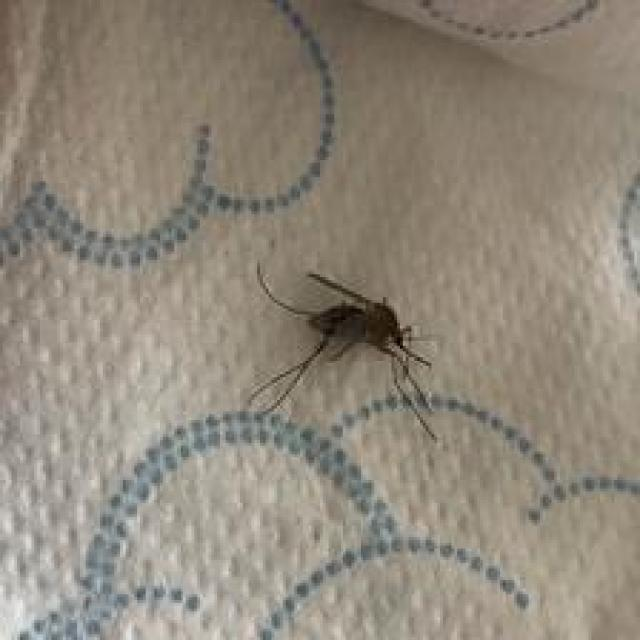Culex: (244, 260, 442, 443)
